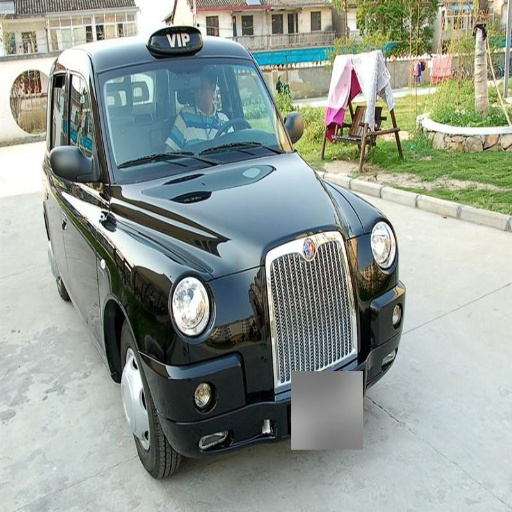front_bumper: (138, 290, 292, 449), (318, 230, 403, 343)
front_right_door: (61, 71, 104, 291)
hood: (117, 153, 367, 278)
